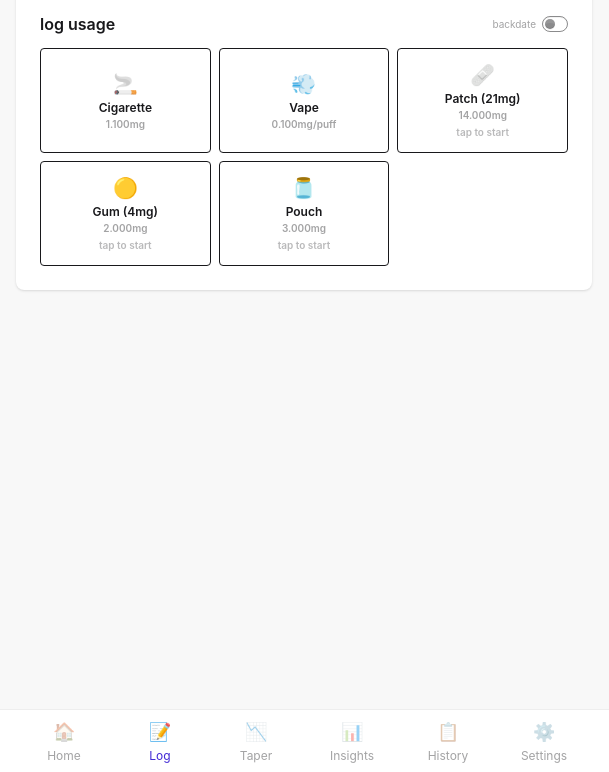
Test: gum session — spit vs swallow › shows spit and swallow options
Click the button "🟡 Gum (4mg) 2.000mg tap to start" at [125, 214], box [40,161,211,266]
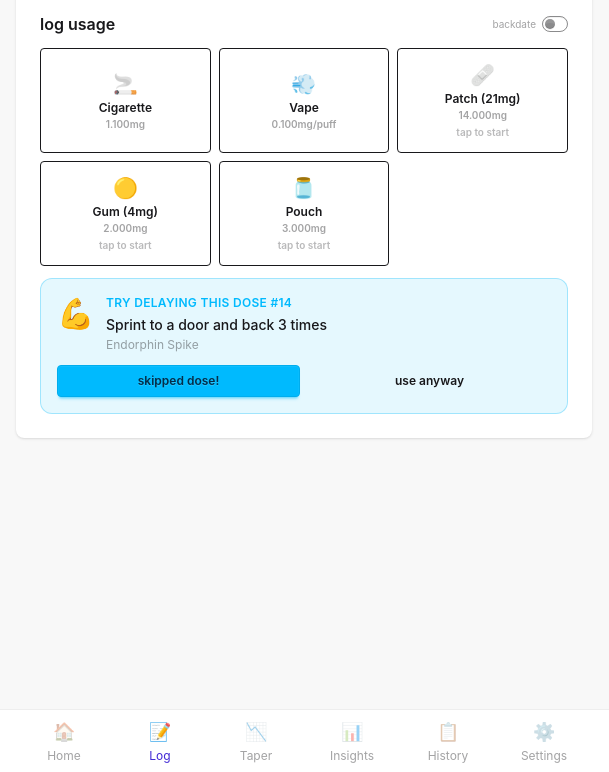
Click the button "🟡 Gum (4mg) 2.000mg tap to start" at [125, 214], box [40,161,211,266]
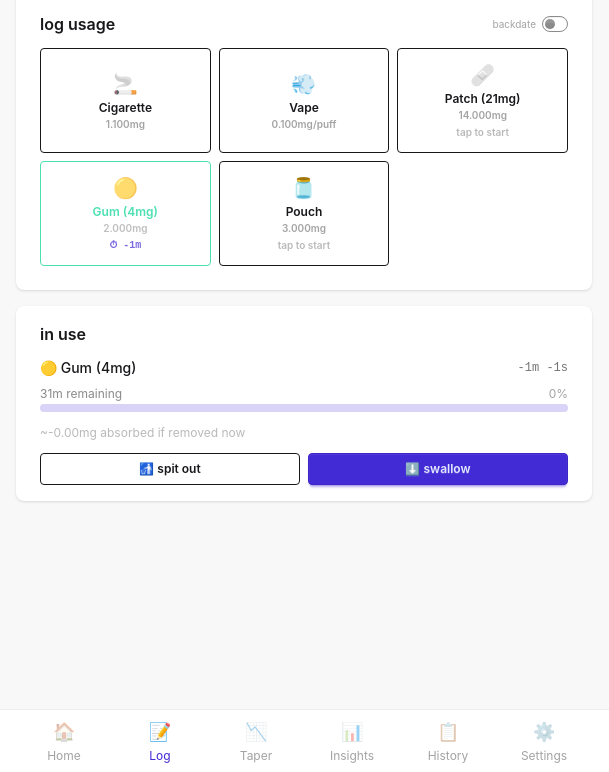
Result: the text "spit out" is shown at [40,453,300,485]
Result: the text "swallow" is shown at [308,453,568,485]
